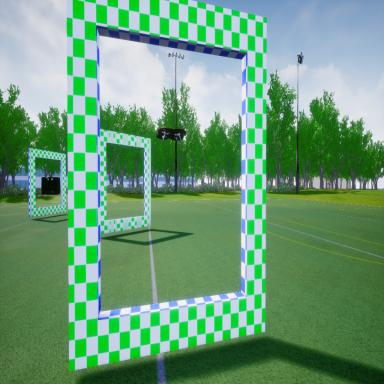gate: (67, 0, 268, 379), (97, 128, 154, 235), (27, 142, 66, 221)
